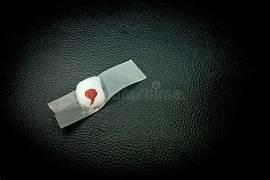cotton: (48, 60, 145, 127), (76, 76, 104, 108)
